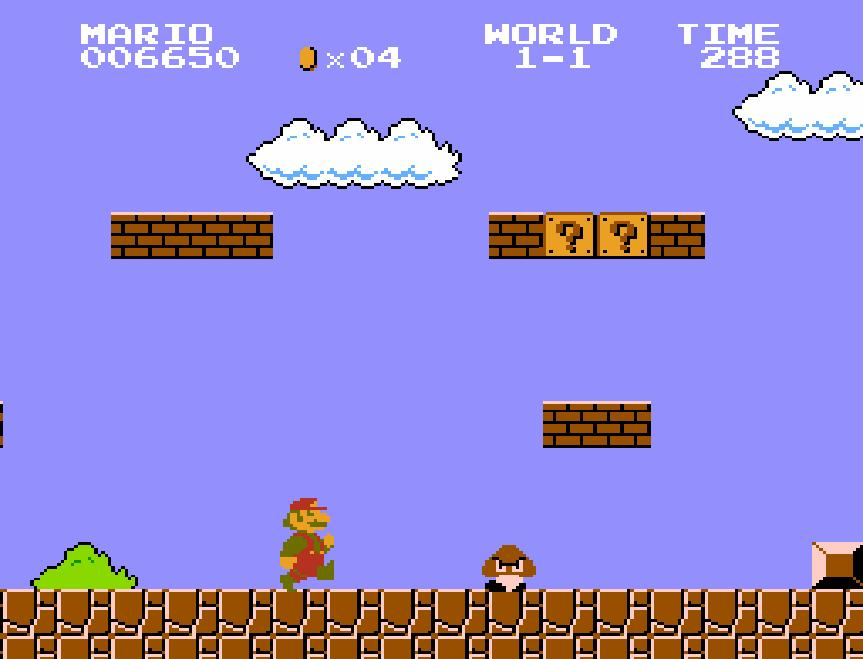big_mario: (278, 496, 336, 594)
